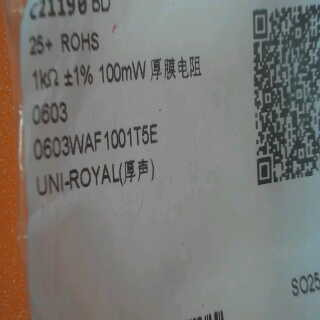1kR: (26, 64, 66, 89)
